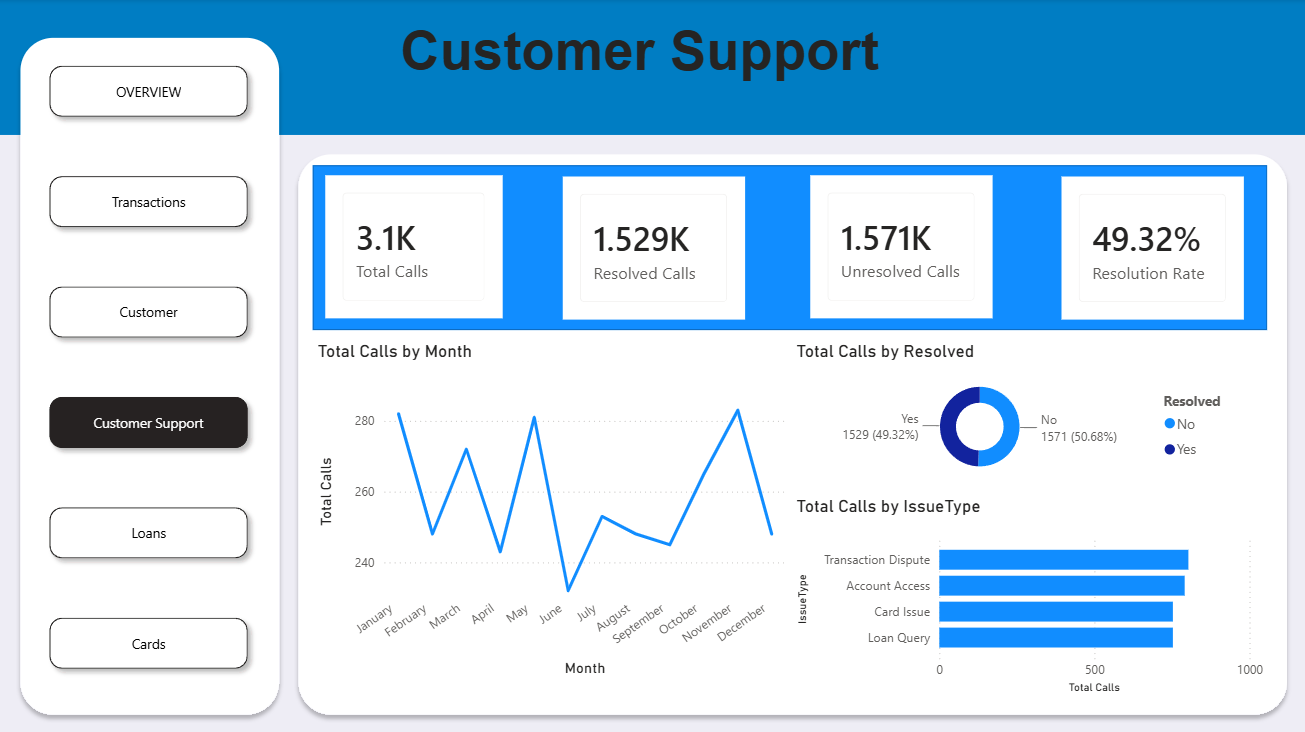

Layout of this report page (visuals, bound fields, positions):
{"tool":"powerbi","page":{"name":"Customer Support","canvas":[1280,720],"ordinal":3},"visuals":[{"type":"image","box":[0,0,1280.3,720.2],"z":0},{"type":"pageNavigator","box":[40.4,56.3,212.8,611.4],"z":1000},{"type":"textbox","box":[387.6,15.9,507.5,81.9],"z":2000},{"type":"shape","box":[307.5,162.5,933.8,161.2],"z":3000},{"type":"cardVisual","fields":{"Data":["SupportCalls.Total Calls"]},"box":[318.8,172.5,173.8,140],"z":4000},{"type":"cardVisual","fields":{"Data":["SupportCalls.Resolved Calls"]},"box":[551.2,173.8,178.8,140],"z":5000},{"type":"cardVisual","fields":{"Data":["SupportCalls.Unresolved Calls"]},"box":[793.8,172.5,178.8,140],"z":6000},{"type":"cardVisual","fields":{"Data":["SupportCalls.Resolution Rate"]},"box":[1040,173.8,178.8,140],"z":7000},{"type":"clusteredBarChart","fields":{"Category":["SupportCalls.IssueType"],"Y":["SupportCalls.Total Calls"]},"box":[775,485,466.2,198.8],"z":8000},{"type":"donutChart","title":"Total Calls by Resolved","fields":{"Category":["SupportCalls.Resolved"],"Y":["SupportCalls.Total Calls"]},"box":[775,333.8,443.8,138.8],"z":9000},{"type":"lineChart","fields":{"Category":["SupportCalls.CallDate.Variation.Date Hierarchy.Month"],"Y":["SupportCalls.Total Calls"]},"box":[307.5,333.8,467.5,333.8],"z":10000}]}

Visuals, with their boxes in screenshot pixels (x1, y1, x2, y2), scaled from the page's 1280x720 canvas onto the 1305x732 screenshot:
image: select_region(0, 0, 1304, 731)
pageNavigator: select_region(41, 57, 258, 679)
textbox: select_region(395, 16, 913, 99)
shape: select_region(314, 165, 1266, 329)
cardVisual - SupportCalls.Total Calls: select_region(325, 175, 502, 318)
cardVisual - SupportCalls.Resolved Calls: select_region(562, 177, 744, 319)
cardVisual - SupportCalls.Unresolved Calls: select_region(809, 175, 992, 318)
cardVisual - SupportCalls.Resolution Rate: select_region(1060, 177, 1243, 319)
clusteredBarChart - SupportCalls.IssueType x SupportCalls.Total Calls: select_region(790, 493, 1265, 695)
"Total Calls by Resolved" donutChart: select_region(790, 339, 1243, 480)
lineChart - SupportCalls.CallDate.Variation.Date Hierarchy.Month x SupportCalls.Total Calls: select_region(314, 339, 790, 679)
